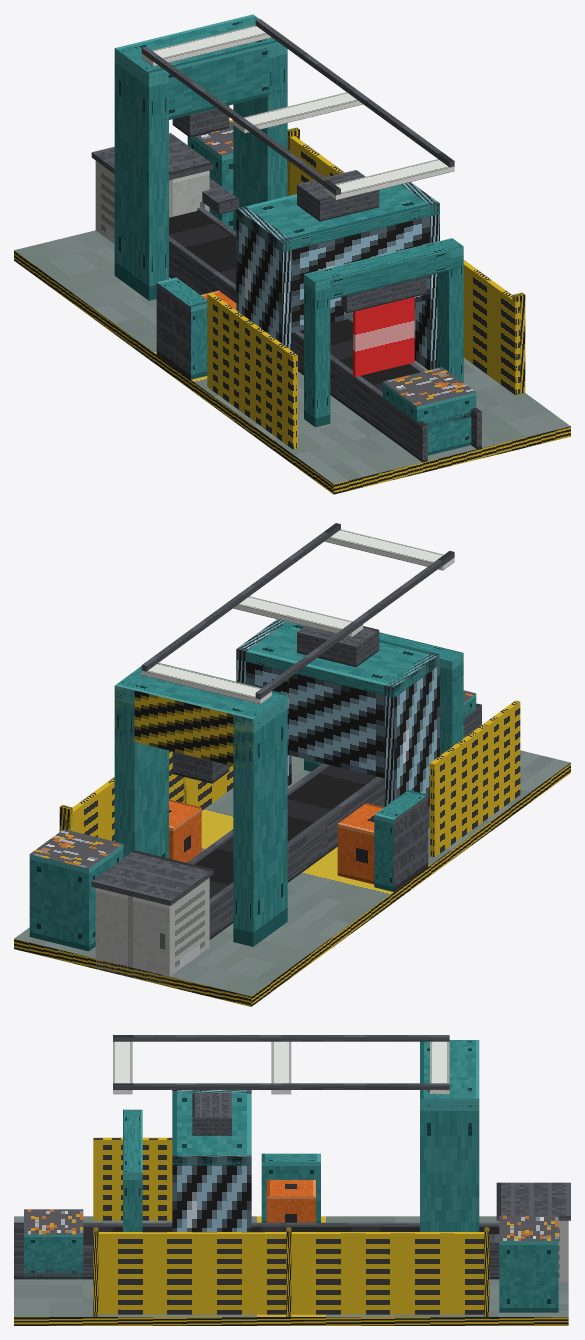
Rendered from assembly_line.obj.
3 views of the same model, one above another, from view 1: azimuth 30°, elevation 25°; view 2: azimuth 150°, elevation 25°; view 3: azimuth 270°, elevation 25° (orthographic). The views are drawn at different scales.
Visible parts, largest first — view 1: floor, press_post_r, fence_r, press_top, fence_l, belt_frame_r, booth_r, booth_roof, press_post_l, light, booth_b, out_bin (+17 smaller); view 2: floor, press_post_r, fence_r, booth_f, press_top, cabinet, bin, press_post_l, booth_r, booth_roof, light, drive (+13 smaller); view 3: fence_l, floor, press_post_l, booth_l, bin, fence_r, light_hanger, booth_roof, out_bin, light, cab_roof, press_top (+10 smaller).
Part boxes in pixels (left/top/right/bottom): floor: left=14, top=230, right=570, bottom=494; press_post_r: left=114, top=43, right=168, bottom=300; fence_r: left=207, top=292, right=297, bottom=449; press_top: left=114, top=14, right=287, bottom=121; fence_l: left=287, top=136, right=520, bottom=395; belt_frame_r: left=169, top=236, right=427, bottom=462; booth_r: left=236, top=206, right=291, bottom=350; booth_roof: left=236, top=182, right=439, bottom=252; press_post_l: left=233, top=14, right=287, bottom=231; light: left=141, top=25, right=454, bottom=200; booth_b: left=291, top=216, right=430, bottom=332; out_bin: left=382, top=367, right=476, bottom=455; floor: left=14, top=750, right=570, bottom=1006; press_post_r: left=233, top=690, right=287, bottom=946; fence_r: left=429, top=700, right=520, bottom=857; booth_f: left=246, top=662, right=384, bottom=778; press_top: left=114, top=665, right=287, bottom=768; cabinet: left=95, top=878, right=209, bottom=986; bin: left=29, top=829, right=123, bottom=951; press_post_l: left=114, top=663, right=168, bottom=858; booth_r: left=384, top=652, right=439, bottom=827; booth_roof: left=237, top=619, right=439, bottom=697; light: left=141, top=529, right=454, bottom=704; drive: left=374, top=790, right=428, bottom=891; fence_l: left=98, top=1232, right=484, bottom=1314; floor: left=14, top=1216, right=568, bottom=1325; press_post_l: left=420, top=1090, right=479, bottom=1231; booth_l: left=172, top=1154, right=251, bottom=1231; bin: left=499, top=1215, right=558, bottom=1312; fence_r: left=93, top=1137, right=172, bottom=1220; light_hanger: left=113, top=1035, right=449, bottom=1089; booth_roof: left=172, top=1090, right=251, bottom=1165; out_bin: left=24, top=1209, right=83, bottom=1278; light: left=113, top=1041, right=449, bottom=1094; cab_roof: left=496, top=1182, right=570, bottom=1220; press_top: left=420, top=1040, right=479, bottom=1143.
Bounding box in the file's own units: 3 × 3 × 7.03.
